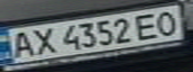2: (112, 15, 136, 44)
3: (78, 20, 100, 50)
4: (57, 21, 81, 52)
5: (93, 17, 118, 47)
A: (3, 29, 39, 61)
E: (130, 10, 166, 40)
O: (151, 8, 184, 37)
X: (27, 25, 57, 56)
